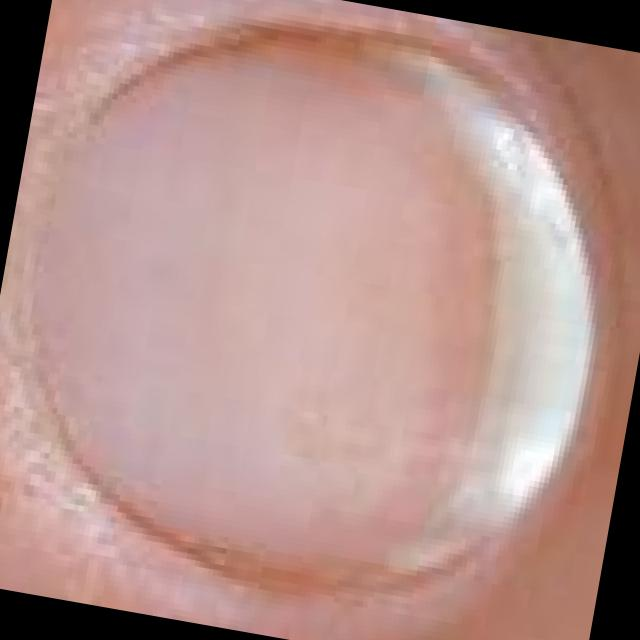Nail: (30, 32, 600, 582)
